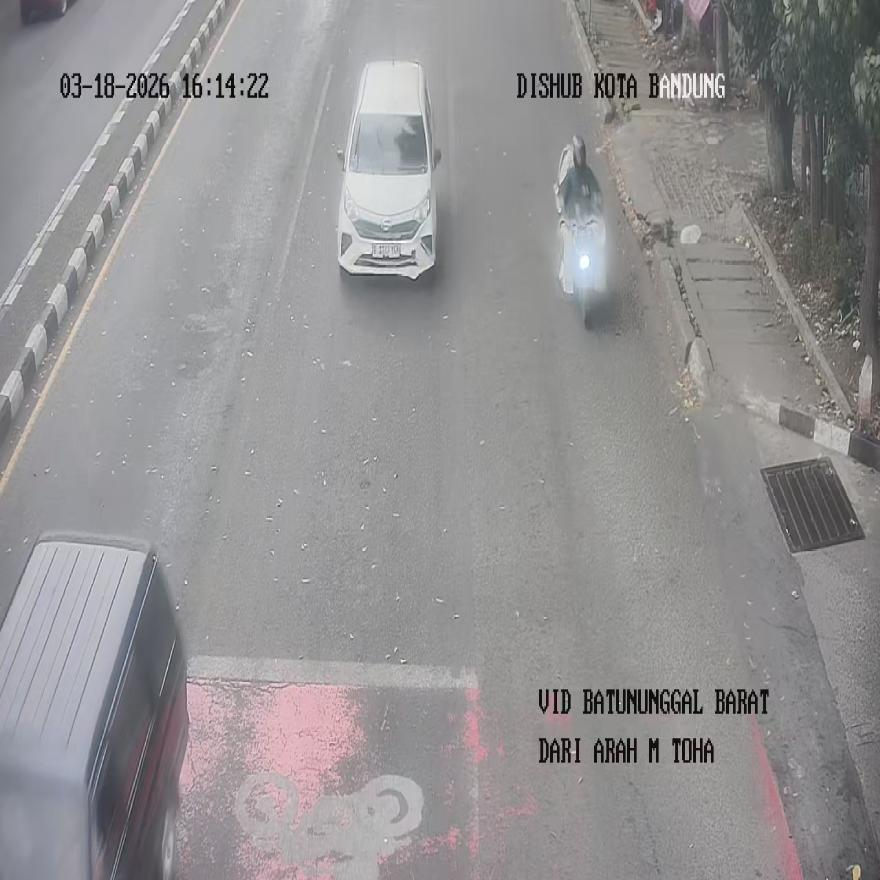Motor: (0, 530, 190, 876), (336, 60, 442, 280)
Truk: (555, 136, 606, 328)
